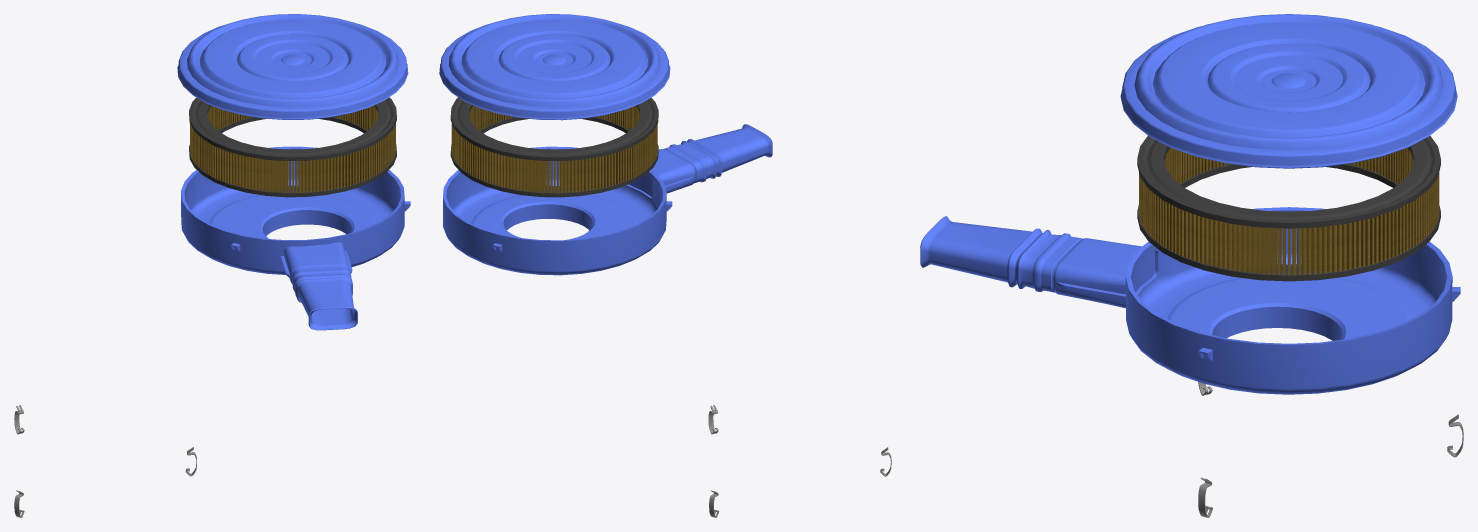
File: filter.glb
3 renders of one model, left to right at view 1: azimuth 30°, elevation 25°; view 2: azimuth 150°, elevation 25°; view 3: azimuth 270°, elevation 25°, orthographic. The views are drawn at different scales.
Visible parts, largest first — view 1: rot_old_filtr_dol(0), rot_old_filtr_gora(0), rot_old_filtr_srodek(0), Object001; view 2: rot_old_filtr_dol(0), rot_old_filtr_gora(0), rot_old_filtr_srodek(0), Object001; view 3: rot_old_filtr_dol(0), rot_old_filtr_gora(0), rot_old_filtr_srodek(0), Object001.
Boxes of the visible parts, bbox=[...] form: rot_old_filtr_dol(0): bbox=[181, 146, 410, 330]; rot_old_filtr_gora(0): bbox=[177, 14, 408, 119]; rot_old_filtr_srodek(0): bbox=[190, 105, 395, 192]; Object001: bbox=[189, 97, 396, 197]; rot_old_filtr_dol(0): bbox=[443, 124, 772, 275]; rot_old_filtr_gora(0): bbox=[439, 14, 670, 120]; rot_old_filtr_srodek(0): bbox=[451, 105, 657, 193]; Object001: bbox=[450, 97, 658, 197]; rot_old_filtr_dol(0): bbox=[920, 207, 1460, 394]; rot_old_filtr_gora(0): bbox=[1120, 14, 1457, 168]; rot_old_filtr_srodek(0): bbox=[1139, 148, 1439, 274]; Object001: bbox=[1137, 136, 1440, 281].
Bounding box in the file's own units: 0.0147 × 0.0126 × 0.0116.
Materials: 4 (1 with a texture image).
